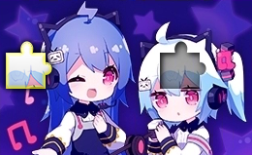gap: (160, 41, 207, 90)
